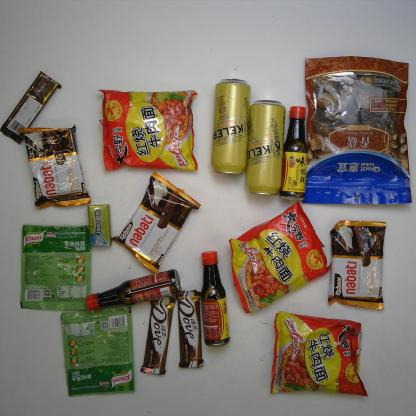Alcohol: (247, 98, 286, 198), (211, 79, 251, 175)
Chocolate: (2, 71, 63, 145), (138, 296, 176, 376), (174, 289, 205, 369)
Dessert: (111, 172, 202, 272), (326, 218, 394, 312), (19, 125, 89, 206)
Dried Food: (302, 56, 412, 208)
Gum: (87, 204, 114, 248)
Instant Noodles: (227, 202, 334, 314), (266, 310, 371, 399), (99, 88, 203, 173)
Seasoner: (17, 222, 96, 313), (61, 309, 138, 398), (86, 268, 183, 311), (197, 247, 231, 350), (281, 103, 316, 202)
